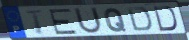D: (152, 5, 179, 32), (125, 6, 153, 32)
E: (47, 7, 79, 35)
Q: (103, 7, 128, 33)
T: (24, 9, 46, 35)
U: (72, 7, 104, 35)
